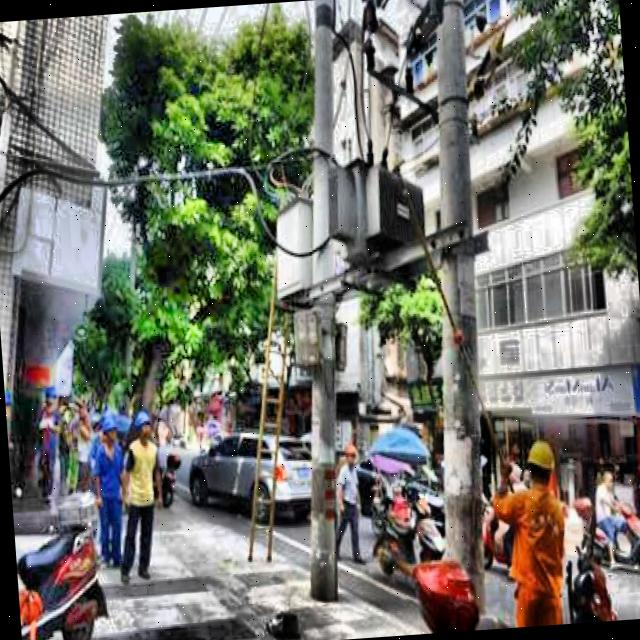helmet: (523, 434, 559, 496), (131, 404, 154, 442), (98, 413, 120, 447)
